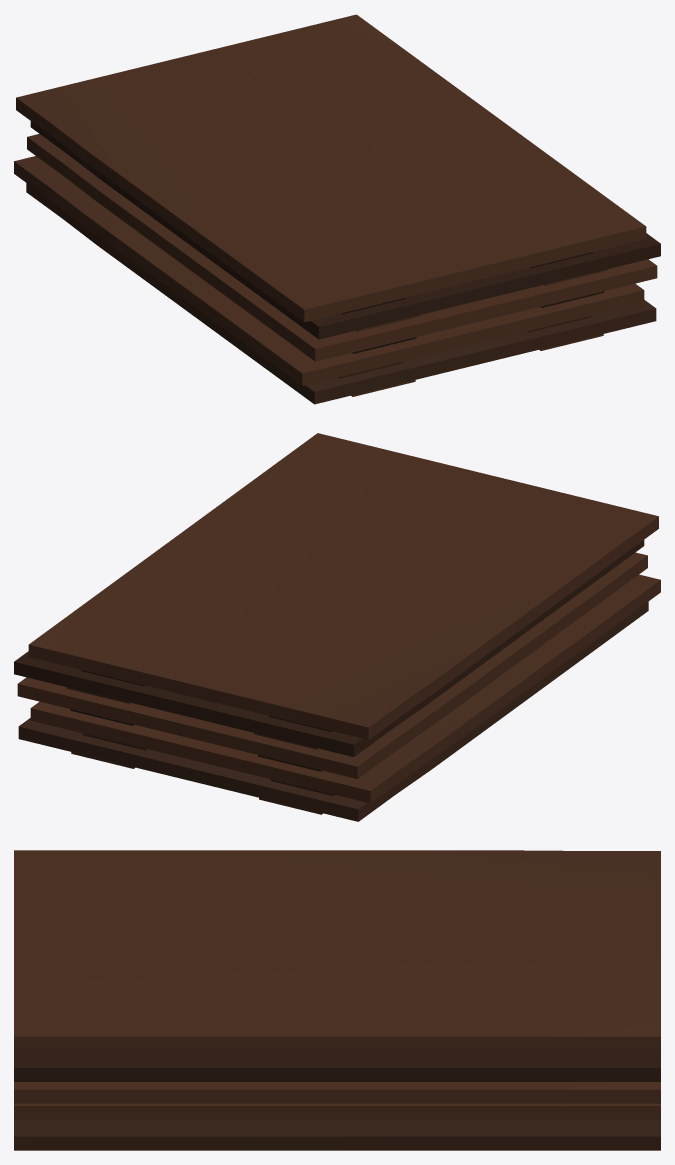
The model's file is Multiple Small Dark Crate Lids.fbx.
The picture shows the model from 3 angles, top to bottom: view 1: azimuth 30°, elevation 25°; view 2: azimuth 150°, elevation 25°; view 3: azimuth 270°, elevation 25°; orthographic projection. The views are drawn at different scales.
Parts seen in each view (by area): view 1: Small Multiple Dark Crate Lids; view 2: Small Multiple Dark Crate Lids; view 3: Small Multiple Dark Crate Lids.
Boxes of the visible parts, box(x1,y1,x2,y2) form: Small Multiple Dark Crate Lids: box(14, 14, 660, 404); Small Multiple Dark Crate Lids: box(14, 433, 660, 821); Small Multiple Dark Crate Lids: box(14, 850, 660, 1150).
Size of the model in its own units: 41.19 by 204 by 146.
1 material, 1 textured.
